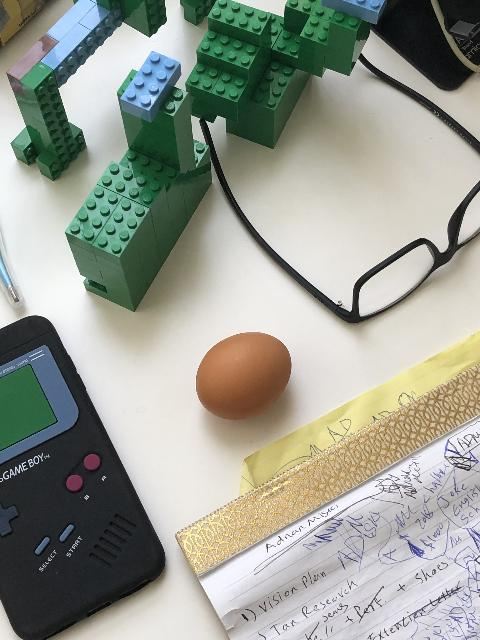Sano: (195, 330, 292, 420)
